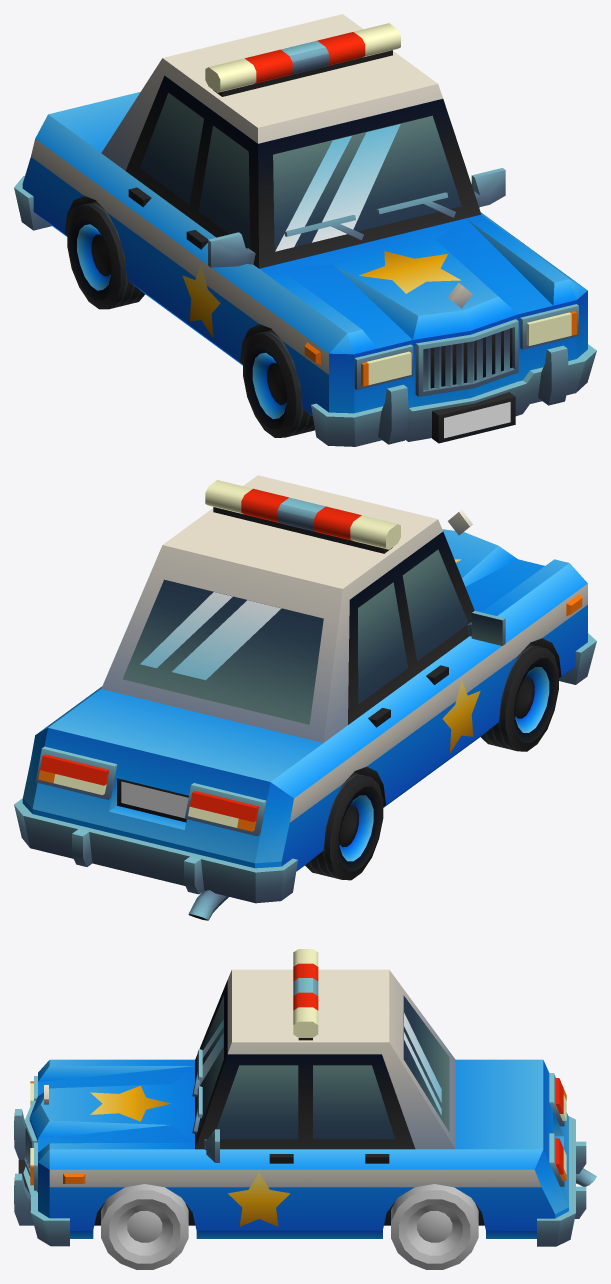
3 views of the same model, one above another, from view 1: azimuth 30°, elevation 25°; view 2: azimuth 150°, elevation 25°; view 3: azimuth 270°, elevation 25° (orthographic). The views are drawn at different scales.
Parts seen in each view (by area): view 1: SHTV_Model_Car_Police_SHTV_Material_Cars_Blue_0, SHTV_Model_Wheel_Police_BR_SHTV_Material_Cars_Blue_0, SHTV_Model_Wheel_Police_FR_SHTV_Material_Cars_Blue_0; view 2: SHTV_Model_Car_Police_SHTV_Material_Cars_Blue_0, SHTV_Model_Wheel_Police_FR_SHTV_Material_Cars_Blue_0, SHTV_Model_Wheel_Police_BR_SHTV_Material_Cars_Blue_0; view 3: SHTV_Model_Car_Police_SHTV_Material_Cars_Blue_0, SHTV_Model_Wheel_Police_FL_SHTV_Material_Cars_Blue_0, SHTV_Model_Wheel_Police_BL_SHTV_Material_Cars_Blue_0.
Boxes of the visible parts, x1,y1,x2,y2 form: SHTV_Model_Car_Police_SHTV_Material_Cars_Blue_0: [14, 14, 596, 446]; SHTV_Model_Wheel_Police_BR_SHTV_Material_Cars_Blue_0: [67, 201, 145, 309]; SHTV_Model_Wheel_Police_FR_SHTV_Material_Cars_Blue_0: [243, 330, 314, 437]; SHTV_Model_Car_Police_SHTV_Material_Cars_Blue_0: [14, 475, 596, 920]; SHTV_Model_Wheel_Police_FR_SHTV_Material_Cars_Blue_0: [481, 644, 558, 751]; SHTV_Model_Wheel_Police_BR_SHTV_Material_Cars_Blue_0: [305, 772, 383, 880]; SHTV_Model_Car_Police_SHTV_Material_Cars_Blue_0: [14, 949, 596, 1246]; SHTV_Model_Wheel_Police_FL_SHTV_Material_Cars_Blue_0: [101, 1184, 188, 1269]; SHTV_Model_Wheel_Police_BL_SHTV_Material_Cars_Blue_0: [391, 1184, 478, 1269].
Bounding box in the file's own units: 2.28 × 2.08 × 4.73.
